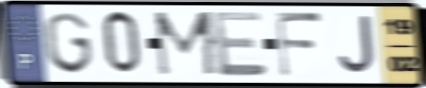0: (99, 8, 145, 79)
E: (209, 10, 271, 80)
F: (272, 9, 327, 80)
G: (42, 11, 96, 77)
J: (336, 14, 377, 77)
M: (151, 9, 221, 79)
